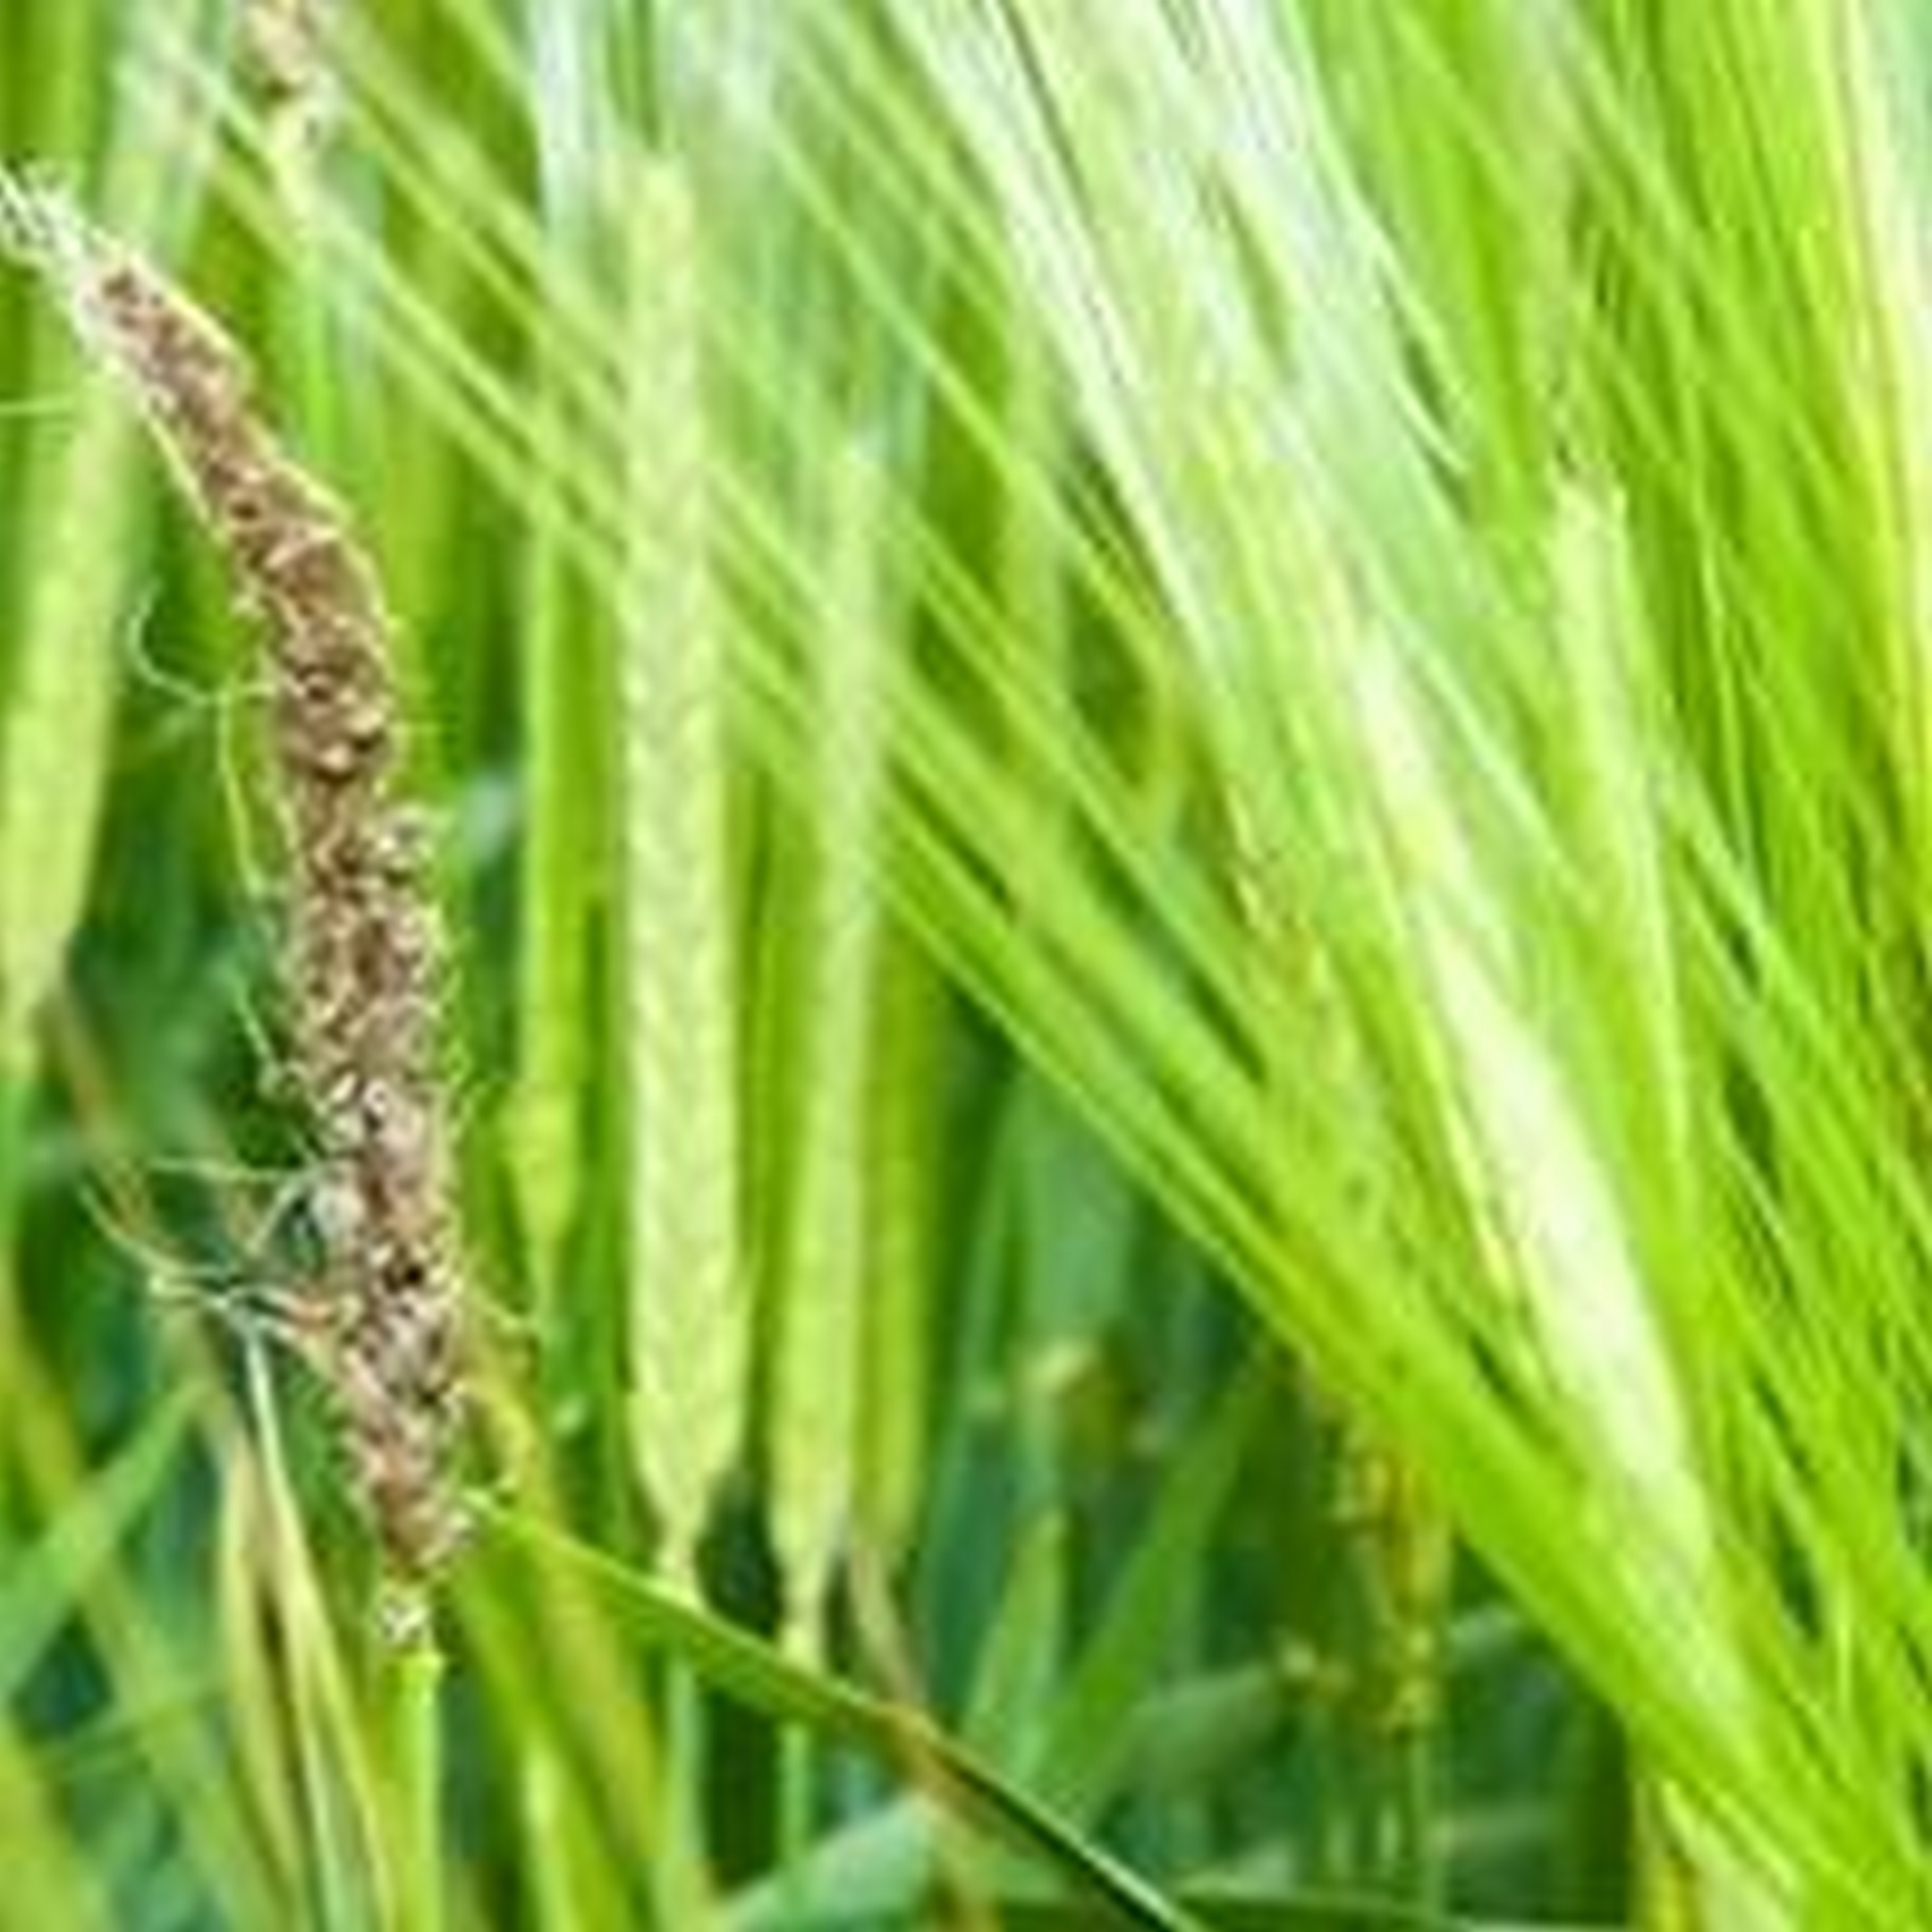Wheat Loose Smut: (74, 267, 550, 1541)
